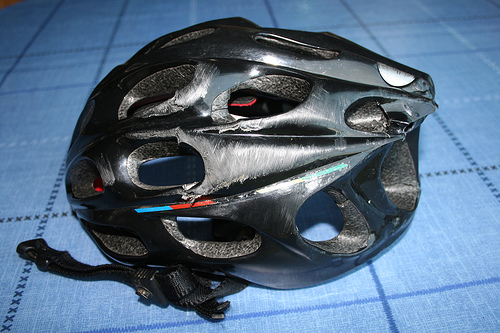helmet: (70, 32, 417, 285)
